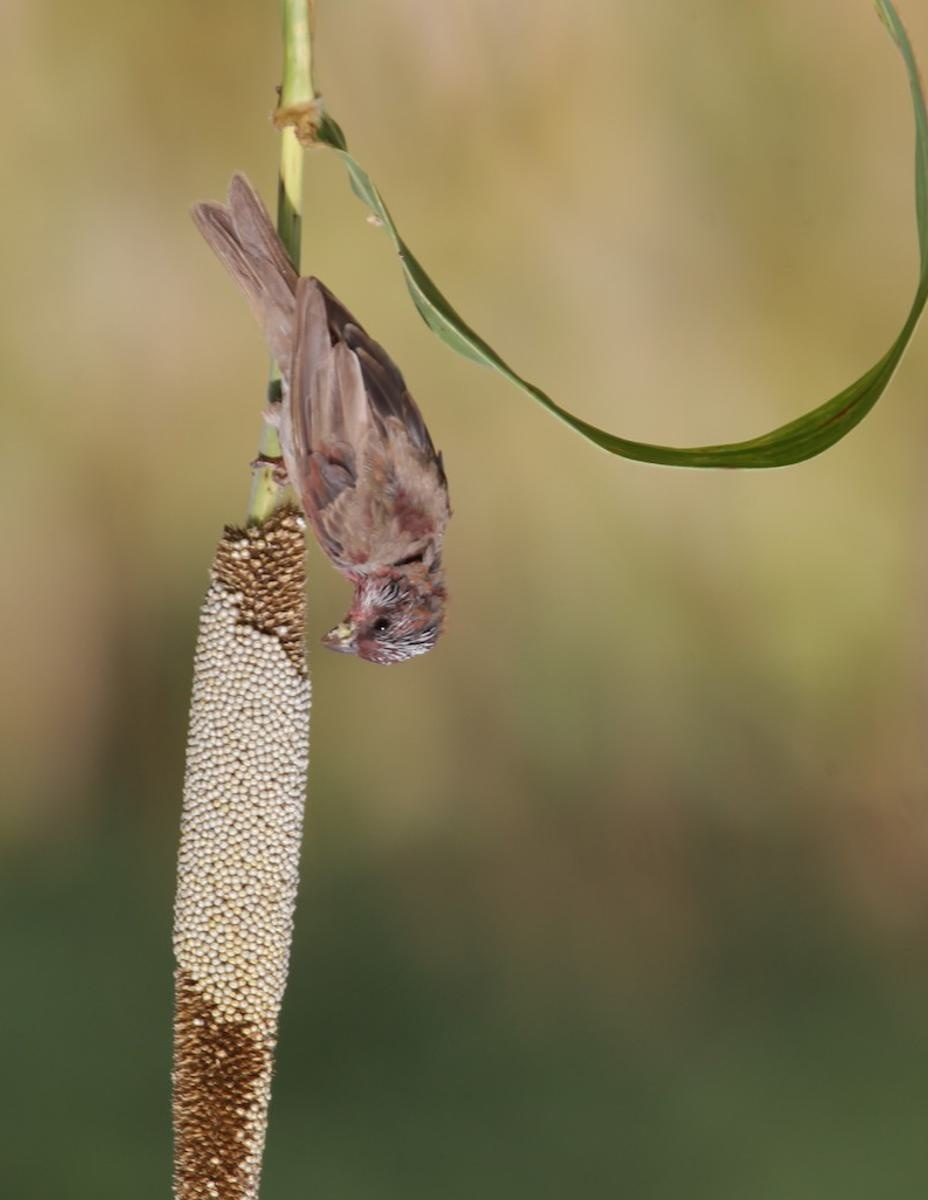rosefinch: (226, 244, 481, 680)
